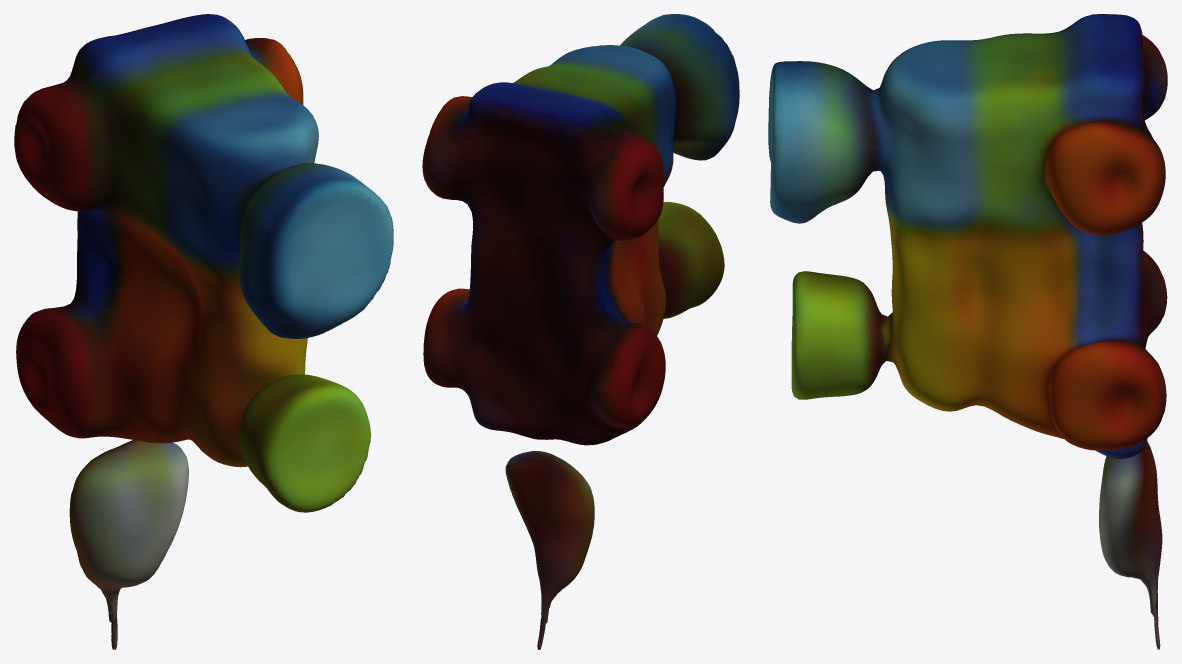
File: train.glb
3 views of the same model, side by side, from view 1: azimuth 30°, elevation 25°; view 2: azimuth 150°, elevation 25°; view 3: azimuth 270°, elevation 25° (orthographic). The views are drawn at different scales.
Bounding box in the file's own units: 0.4185 × 0.9972 × 0.5846.
